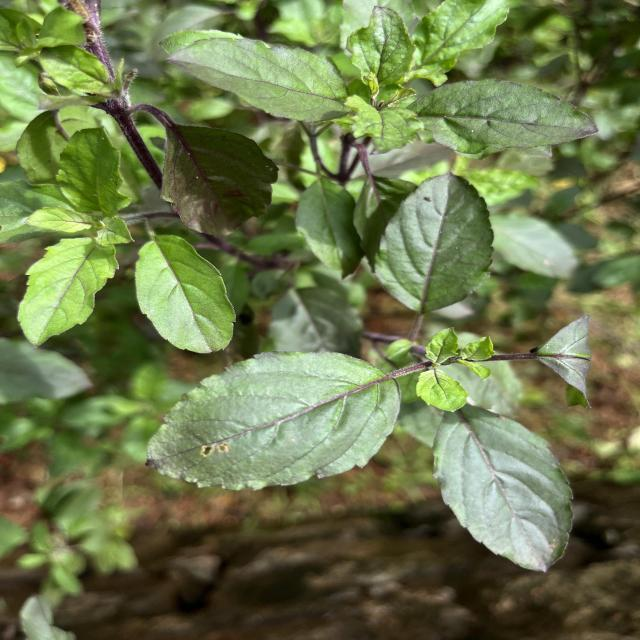Ocimum tenuiflorum: (142, 348, 406, 494), (373, 171, 496, 314), (132, 232, 239, 358), (14, 237, 122, 351)
